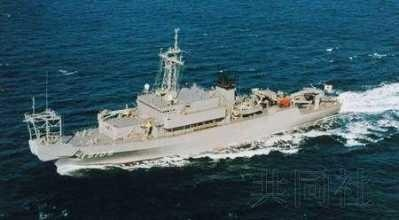warship: (16, 38, 341, 171)
